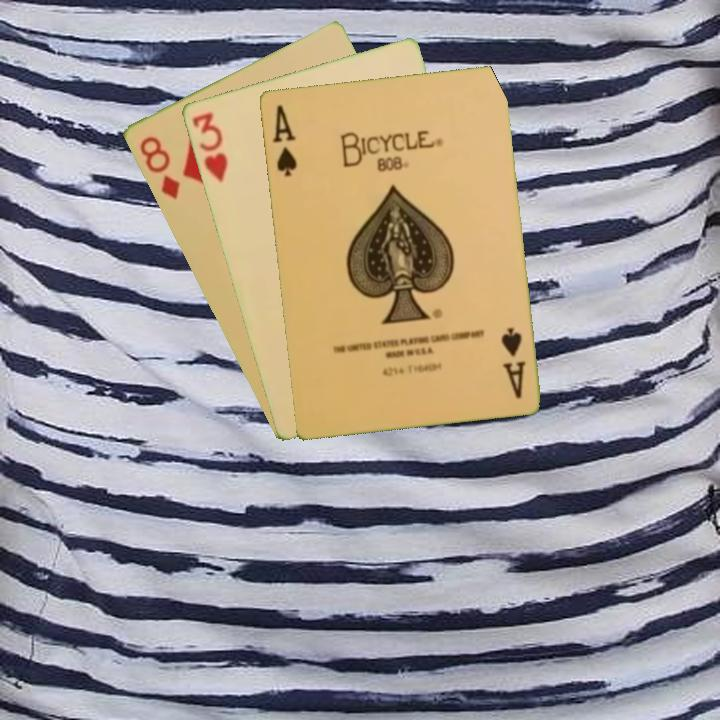3h: (188, 108, 231, 184)
8d: (135, 132, 183, 202)
As: (268, 101, 300, 179), (497, 323, 528, 401)
